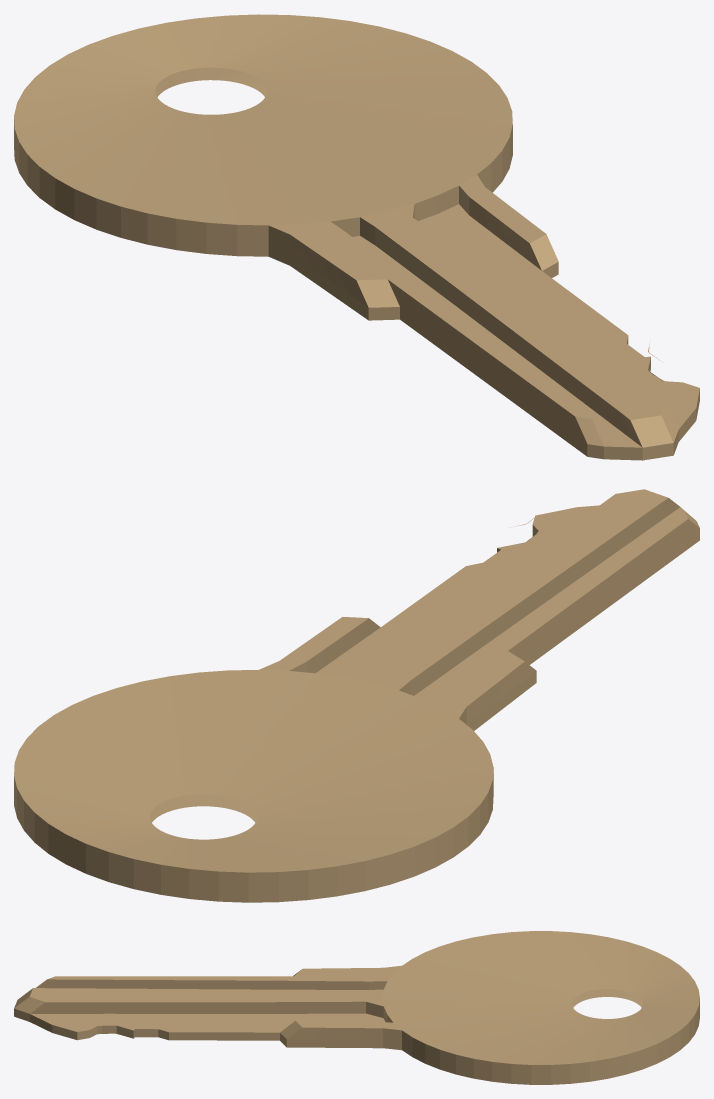
File: kunci1.glb
3 views of the same model, one above another, from view 1: azimuth 30°, elevation 25°; view 2: azimuth 150°, elevation 25°; view 3: azimuth 270°, elevation 25° (orthographic). The views are drawn at different scales.
Parts seen in each view (by area): view 1: Circle; view 2: Circle; view 3: Circle.
Part boxes in pixels (left/top/right/bottom): Circle: left=14, top=14, right=699, bottom=460; Circle: left=14, top=489, right=699, bottom=902; Circle: left=14, top=931, right=699, bottom=1084.
Size of the model in its own units: 0.3676 by 0.0255 by 0.7956.
